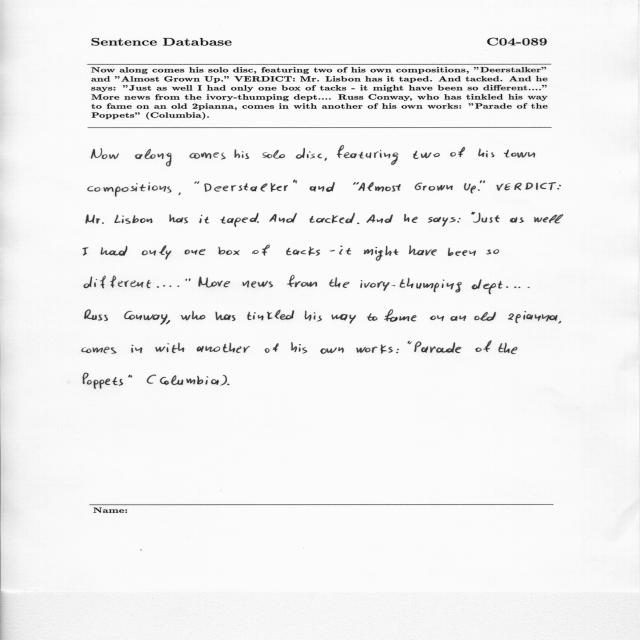word: (361, 278, 462, 293), (88, 182, 172, 197), (337, 145, 399, 165), (84, 276, 151, 289), (204, 183, 288, 192), (83, 373, 124, 389), (124, 311, 170, 325), (135, 149, 172, 166), (160, 375, 219, 385), (508, 311, 557, 323), (197, 342, 250, 353), (415, 342, 462, 354), (220, 213, 259, 227), (472, 280, 508, 295), (497, 182, 556, 191), (364, 246, 399, 261), (247, 310, 294, 321), (309, 213, 355, 223), (142, 245, 171, 260), (384, 309, 417, 322), (287, 275, 317, 287), (199, 277, 231, 288), (115, 215, 153, 224), (367, 182, 401, 192), (356, 345, 393, 354), (91, 148, 119, 159), (409, 245, 437, 256), (286, 247, 320, 256), (415, 183, 453, 191), (156, 343, 185, 353), (296, 148, 322, 159), (269, 213, 297, 223), (428, 217, 456, 227), (504, 149, 535, 158), (473, 213, 500, 223), (101, 246, 128, 256), (534, 214, 563, 223), (309, 182, 335, 192), (189, 153, 226, 160), (85, 310, 108, 321), (331, 314, 356, 324), (242, 280, 273, 288), (366, 214, 393, 223), (82, 347, 116, 354), (448, 248, 476, 256), (329, 277, 349, 288), (413, 151, 440, 159), (499, 343, 518, 354), (263, 150, 285, 159), (252, 245, 270, 256), (474, 312, 496, 321), (291, 342, 307, 354), (305, 311, 322, 322), (475, 341, 492, 352), (86, 214, 104, 224), (216, 312, 236, 321), (170, 215, 189, 224), (219, 247, 240, 255), (320, 347, 344, 354), (478, 149, 495, 158), (450, 147, 465, 157), (235, 149, 249, 159), (265, 343, 279, 353), (464, 183, 476, 194), (404, 214, 418, 223), (185, 249, 206, 255), (192, 311, 205, 320), (353, 182, 365, 191), (339, 246, 351, 255), (131, 345, 142, 353), (510, 217, 524, 223), (430, 315, 444, 321), (147, 375, 156, 384), (200, 215, 210, 223), (367, 313, 377, 321), (450, 316, 466, 321), (220, 375, 227, 386), (486, 250, 499, 255), (181, 315, 191, 320), (83, 248, 89, 256), (157, 285, 171, 288), (514, 286, 530, 288), (557, 185, 561, 190), (457, 218, 461, 223), (195, 181, 200, 184), (480, 181, 485, 184), (186, 278, 191, 281), (407, 341, 412, 344), (293, 180, 297, 183), (471, 212, 475, 215), (396, 349, 399, 353), (128, 375, 132, 378), (324, 158, 327, 161), (178, 192, 181, 195), (558, 321, 561, 323), (330, 250, 335, 251), (478, 189, 480, 191), (257, 221, 259, 223), (178, 285, 180, 287), (227, 384, 230, 385), (357, 223, 359, 224)
